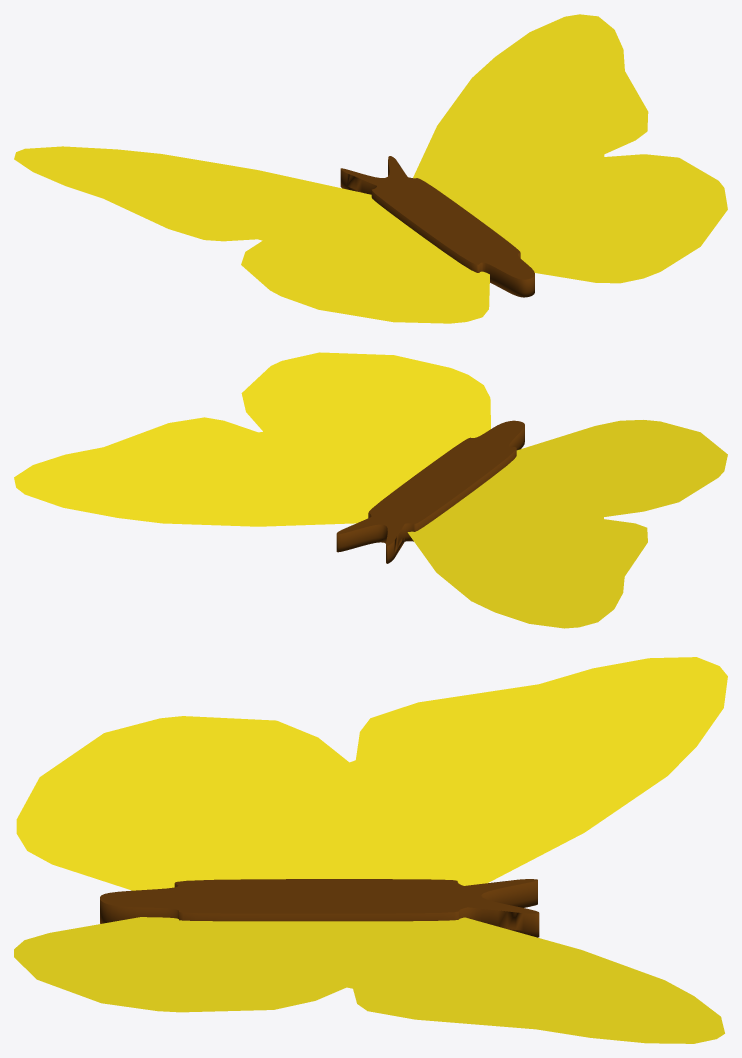
File: bf_yellow.glb
The picture shows the model from 3 angles, top to bottom: view 1: azimuth 30°, elevation 25°; view 2: azimuth 150°, elevation 25°; view 3: azimuth 270°, elevation 25°; orthographic projection. The views are drawn at different scales.
Parts seen in each view (by area): view 1: RWing.002, LWing.002, bfbody.002; view 2: RWing.002, LWing.002, bfbody.002; view 3: LWing.002, RWing.002, bfbody.002.
Part boxes in pixels (box(x1,y1,x2,y2)): RWing.002: box(413, 14, 727, 283); LWing.002: box(14, 146, 489, 323); bfbody.002: box(340, 156, 534, 297); RWing.002: box(14, 352, 490, 526); LWing.002: box(407, 420, 727, 628); bfbody.002: box(336, 420, 524, 563); LWing.002: box(16, 657, 727, 890); RWing.002: box(14, 917, 724, 1043); bfbody.002: box(100, 879, 539, 937).
Size of the model in its own units: 2.13 by 0.1791 by 1.66.
